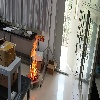fire: (28, 34, 38, 81)
